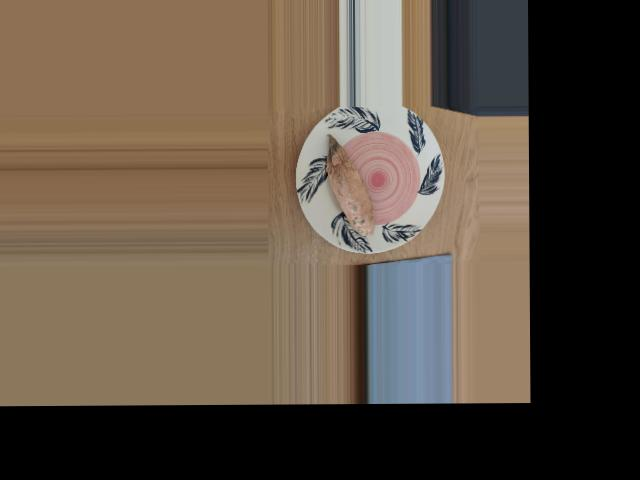sweet_potato: (325, 144, 378, 230)
